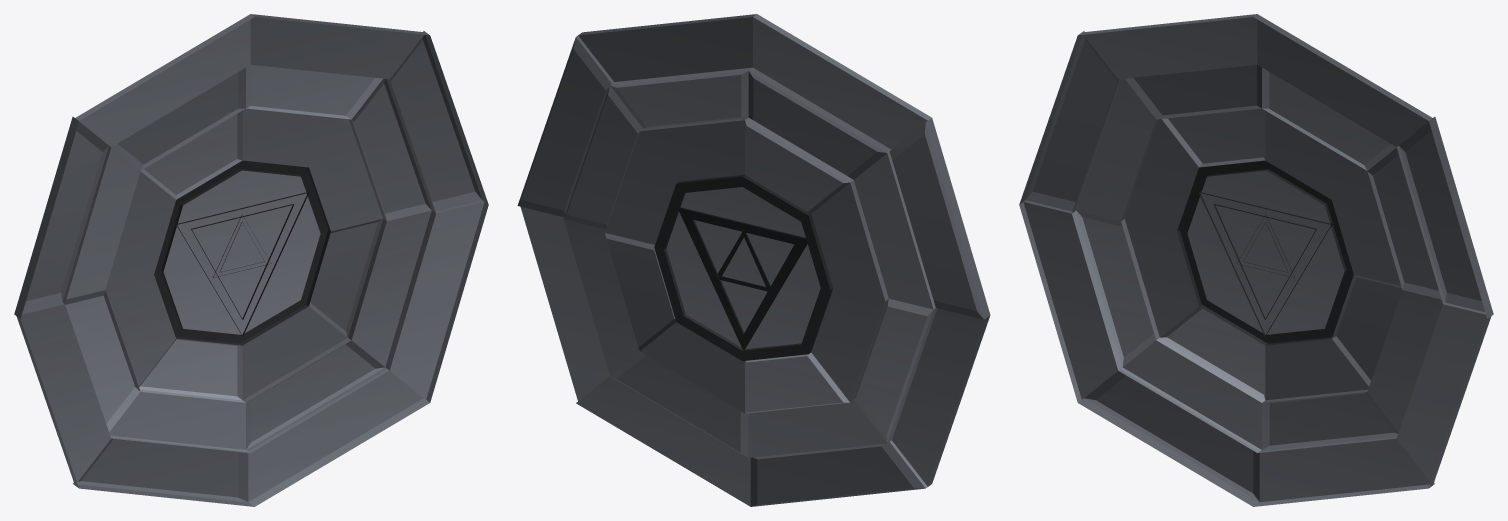
Rendered from Waypoint 01.FBX.
3 views of the same model, side by side, from view 1: azimuth 30°, elevation 25°; view 2: azimuth 150°, elevation 25°; view 3: azimuth 330°, elevation 25° (orthographic).
Visible parts, largest first — view 1: Waypoint 01, Waypoint 01 Glow; view 2: Waypoint 01, Waypoint 01 Glow; view 3: Waypoint 01, Waypoint 01 Glow.
Part boxes in pixels (x1,y1,x2,y2): Waypoint 01: (14,14,488,506); Waypoint 01 Glow: (154,160,330,345); Waypoint 01: (517,14,990,506); Waypoint 01 Glow: (654,174,833,361); Waypoint 01: (1019,14,1493,506); Waypoint 01 Glow: (1177,160,1353,345).
Size of the model in its own units: 563 by 563 by 30.83.
